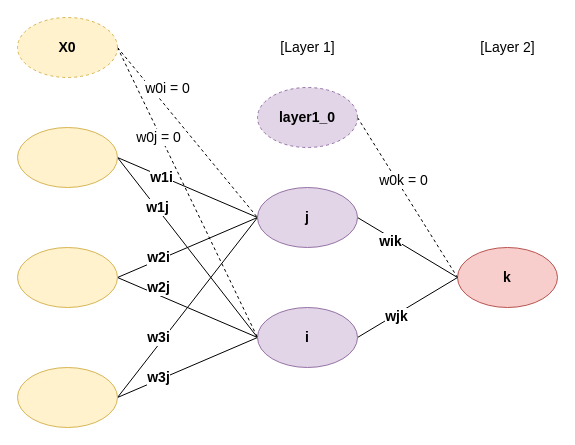
The diagram is 575 pixels wide and 445 high, and some of its shapes have lost their labels. Here are the shapes that lost their labels. From the top down, the centre of each, then its label:
At [67,157]: "X1".
At [67,277]: "X2".
At [67,397]: "X3".
